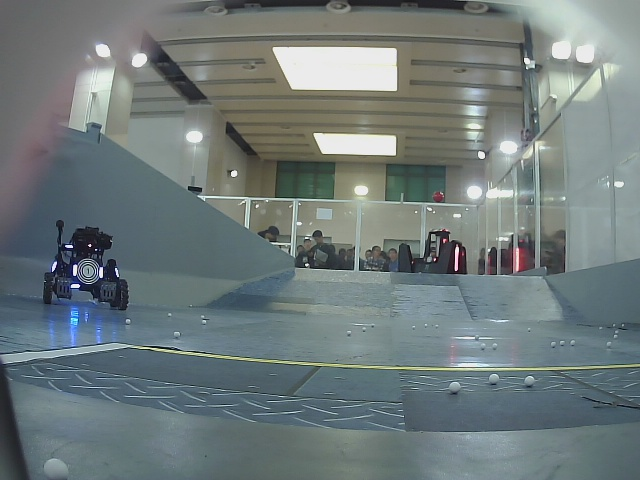lamp: (70, 263, 79, 278), (97, 264, 104, 279)
pair: (72, 263, 103, 279)
